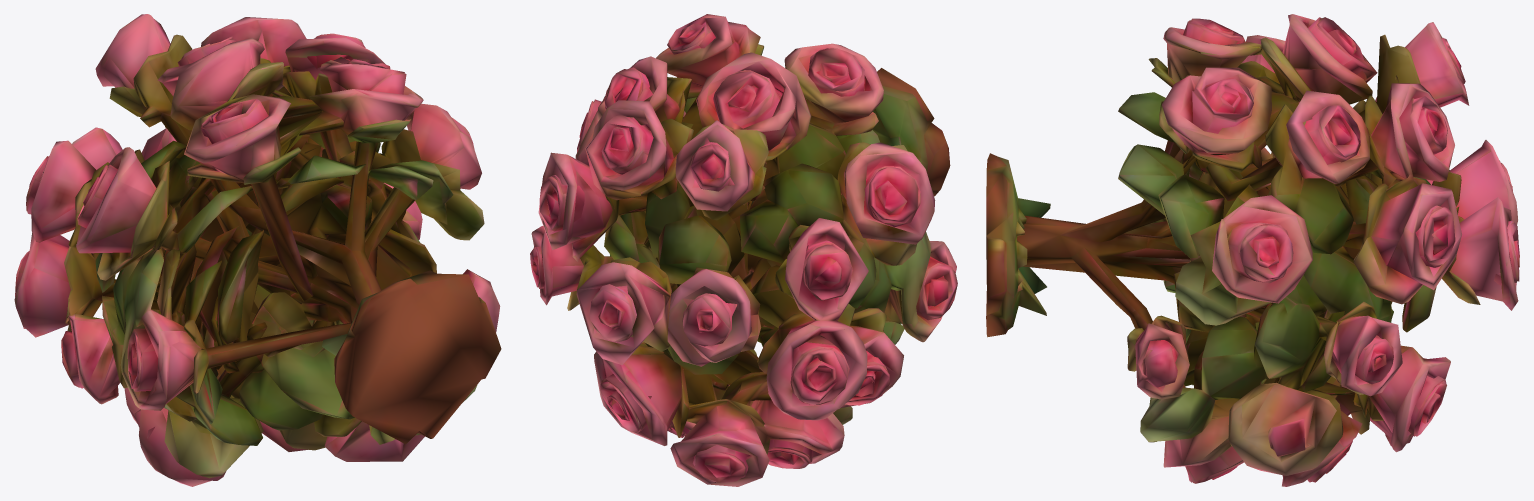
3 views of the same model, side by side, from view 1: azimuth 30°, elevation 25°; view 2: azimuth 150°, elevation 25°; view 3: azimuth 270°, elevation 25° (orthographic). The views are drawn at different scales.
Parts seen in each view (by area): view 1: material; view 2: material; view 3: material.
Boxes of the visible parts, box(x1,y1,x2,y2) form: material: box(14, 14, 501, 486); material: box(530, 14, 957, 486); material: box(986, 14, 1519, 486).
Bounding box in the file's own units: 0.8293 × 0.8927 × 1.
1 material, 1 textured.
